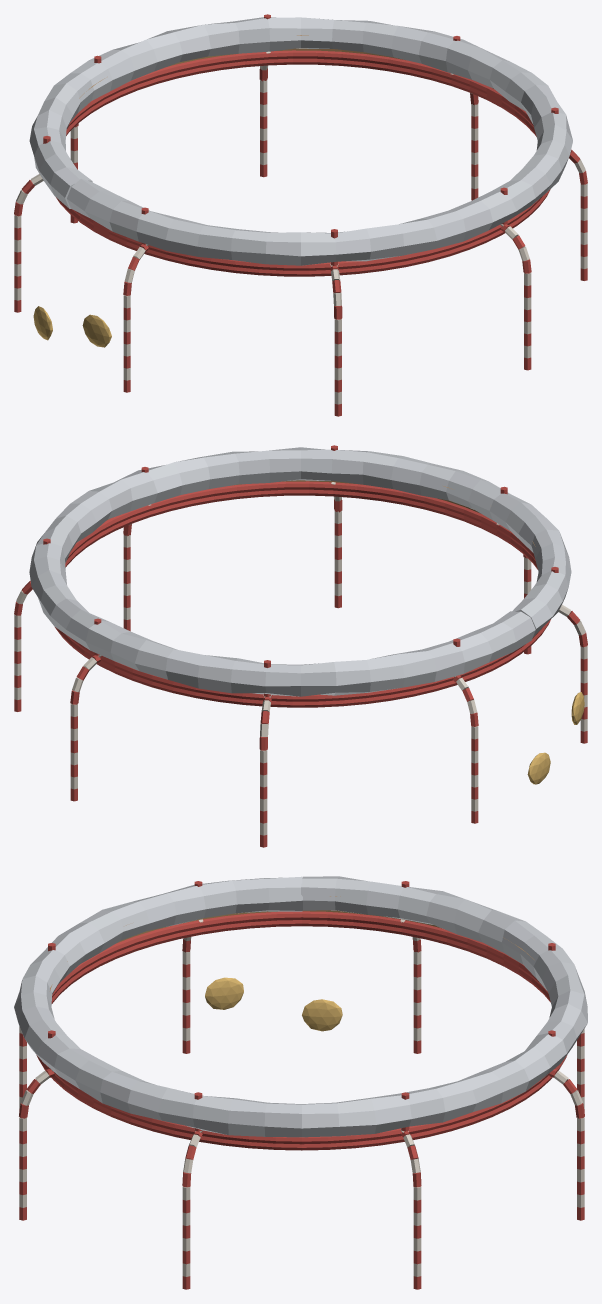
The model's file is goo_jar_trim_3_mid@winter.fbx.
3 views of the same model, one above another, from view 1: azimuth 30°, elevation 25°; view 2: azimuth 150°, elevation 25°; view 3: azimuth 270°, elevation 25° (orthographic). The views are drawn at different scales.
Parts seen in each view (by area): view 1: goo_jar_trim_3_mid; view 2: goo_jar_trim_3_mid; view 3: goo_jar_trim_3_mid.
Boxes of the visible parts, <box> form: goo_jar_trim_3_mid: <box>14,14,587,416</box>; goo_jar_trim_3_mid: <box>14,445,587,847</box>; goo_jar_trim_3_mid: <box>14,876,587,1289</box>.
Bounding box in the file's own units: 47.64 × 16.05 × 45.98.
